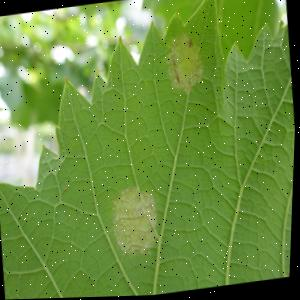Folha: (0, 0, 300, 300)
Fungo: (108, 183, 163, 258), (161, 30, 206, 97), (187, 37, 193, 47), (175, 73, 180, 83)
